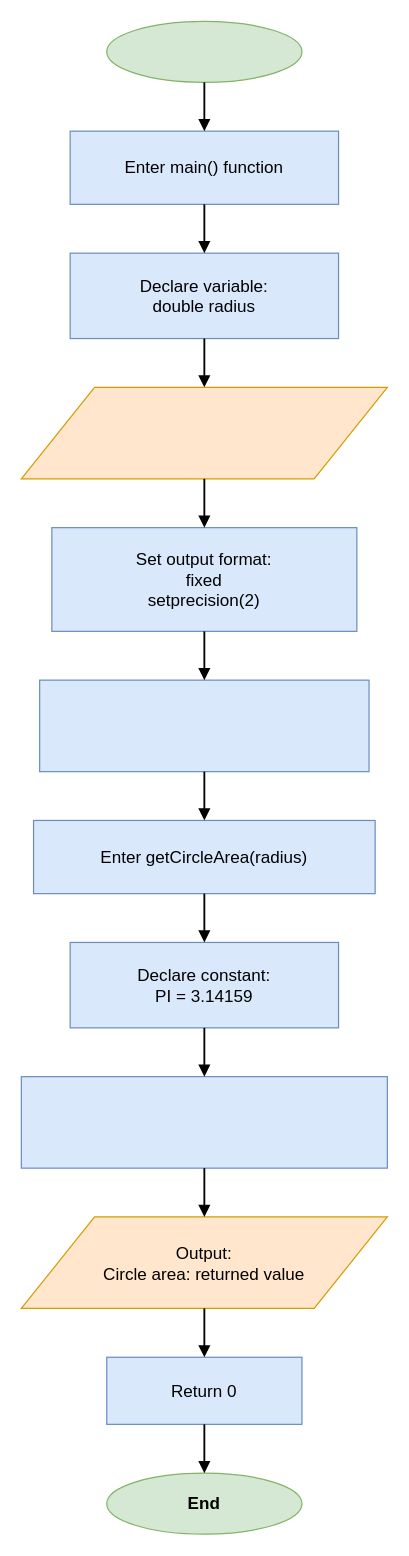
Image size: 409x1556. Some labels were removed from this diagram. Here are the shapes that lost their labels. From the top down, the centre of each, then its label:
the point at 204,51: Start
the point at 203,432: Output: Enter radius: Input: radius
the point at 203,725: Call function: getCircleArea(radius)
the point at 203,1121: Calculate and return area: PI * radius * radius
